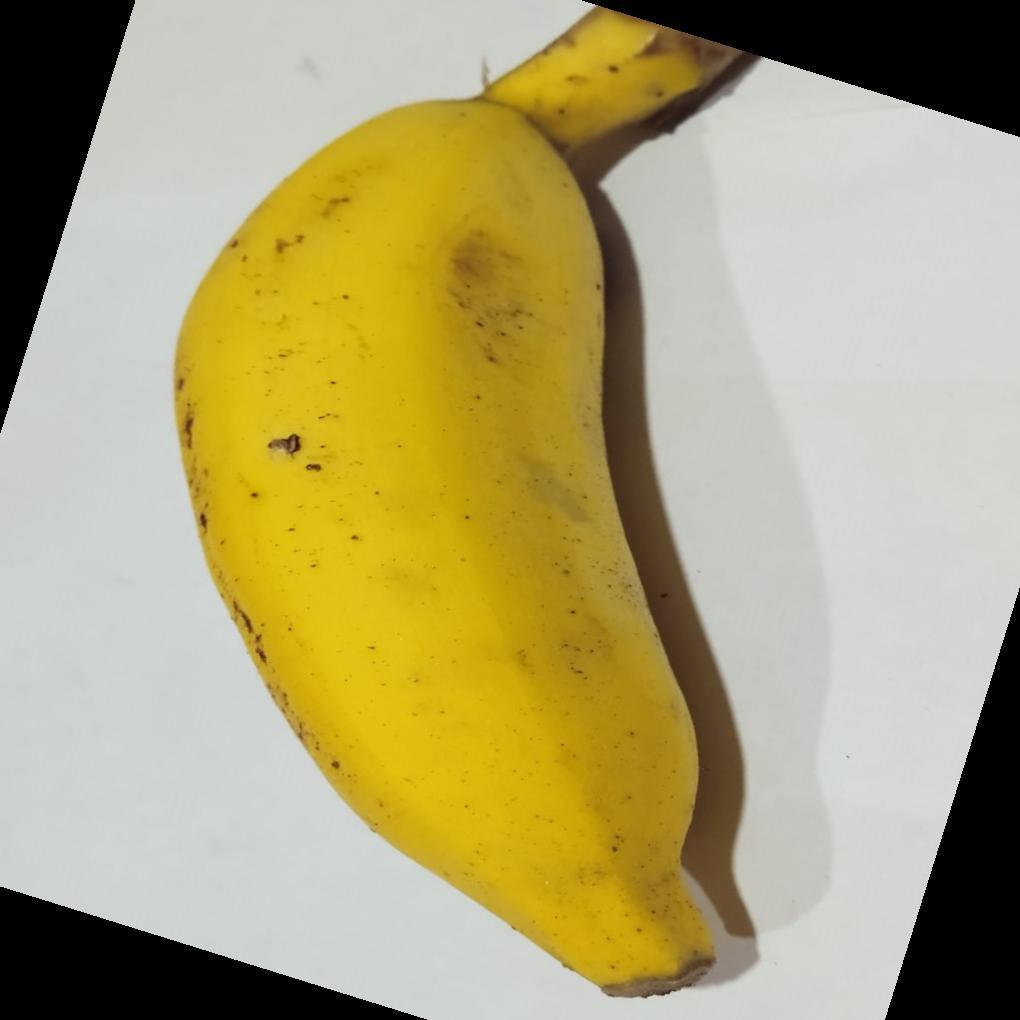Banana Ripe: (171, 26, 850, 1007)
